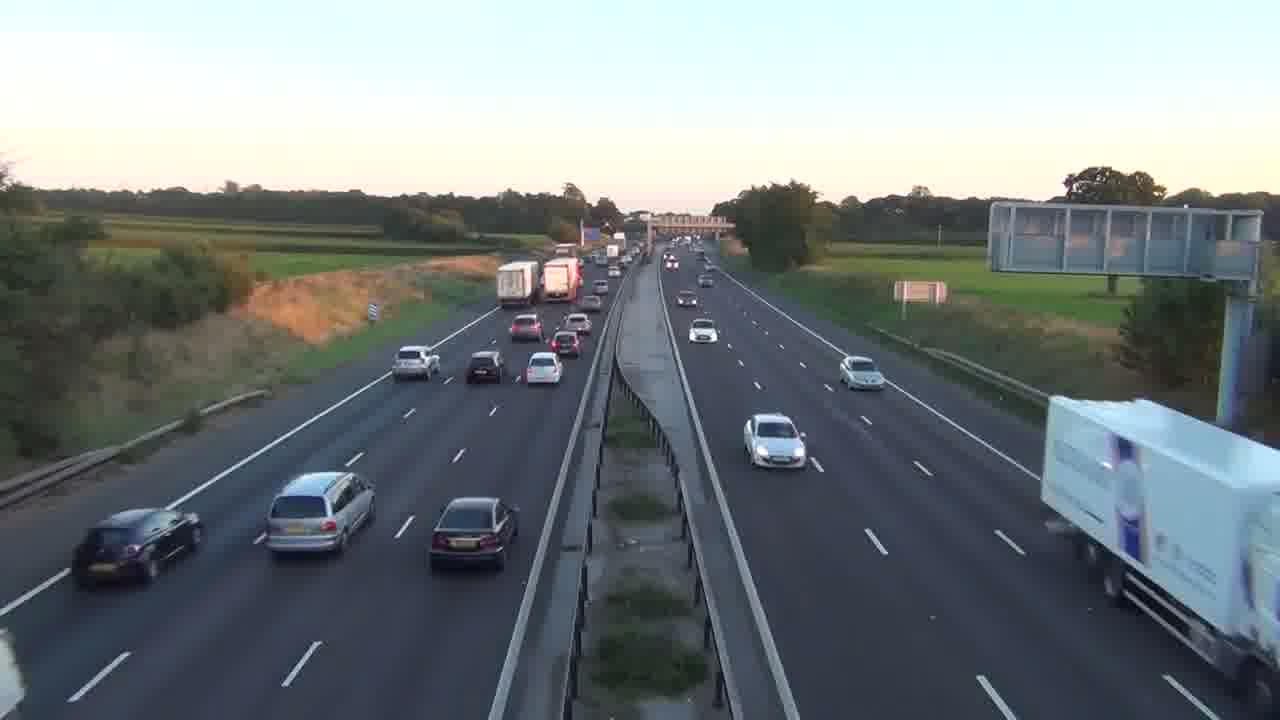car: (71, 507, 206, 589), (252, 469, 377, 556), (428, 496, 520, 572), (743, 411, 808, 470), (838, 354, 885, 391), (391, 346, 435, 381), (464, 349, 503, 385), (525, 350, 563, 386), (509, 312, 545, 342), (549, 330, 581, 361), (688, 318, 719, 343), (562, 312, 592, 335)
truck: (1039, 395, 1279, 696), (496, 259, 538, 308)
